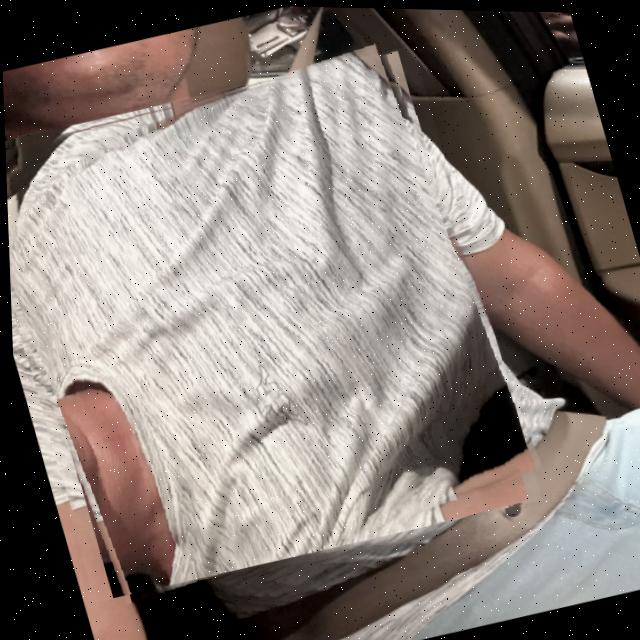no-seatbelt: (1, 34, 539, 608)
